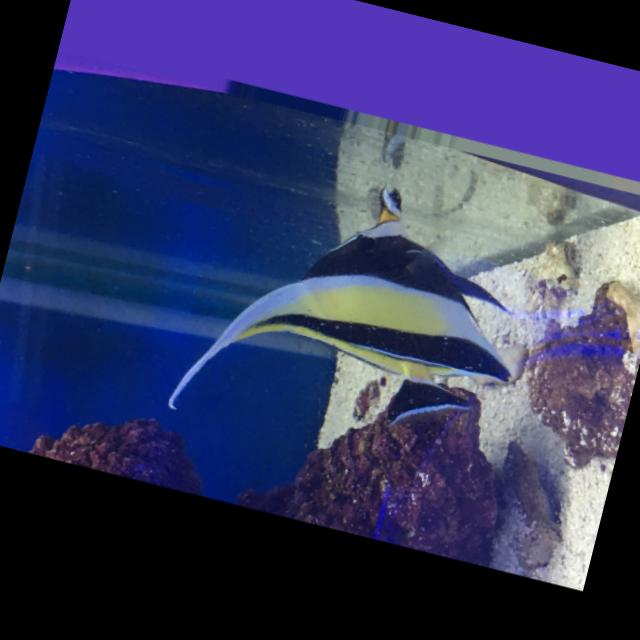MorishIdol: (162, 144, 560, 493)
